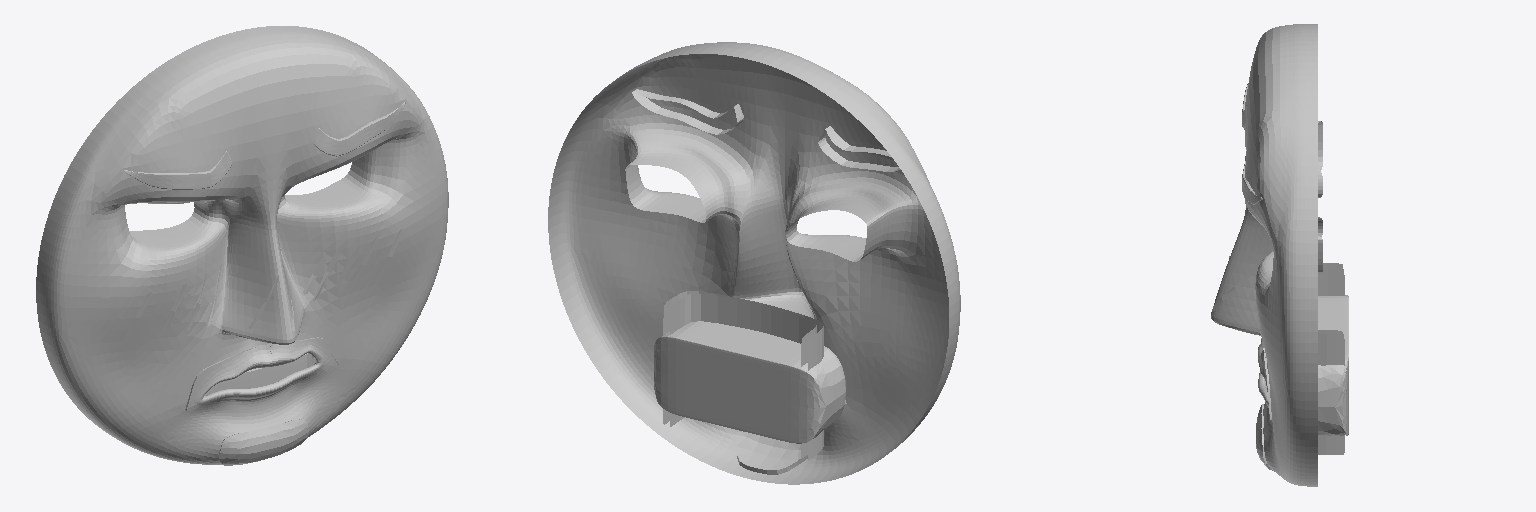
File: Blushing.obj
3 views of the same model, side by side, from view 1: azimuth 30°, elevation 25°; view 2: azimuth 150°, elevation 25°; view 3: azimuth 270°, elevation 25° (orthographic).
Parts seen in each view (by area): view 1: Circle.007_Circle.014; view 2: Circle.007_Circle.014; view 3: Circle.007_Circle.014.
Part boxes in pixels (bbox=[...]): Circle.007_Circle.014: bbox=[36, 26, 448, 465]; Circle.007_Circle.014: bbox=[548, 42, 960, 484]; Circle.007_Circle.014: bbox=[1211, 24, 1348, 486].
Size of the model in its own units: 50.64 by 50.76 by 15.12.